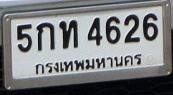num5: (16, 23, 32, 53)
txt01: (35, 22, 56, 52)
txt18: (58, 19, 80, 49)
